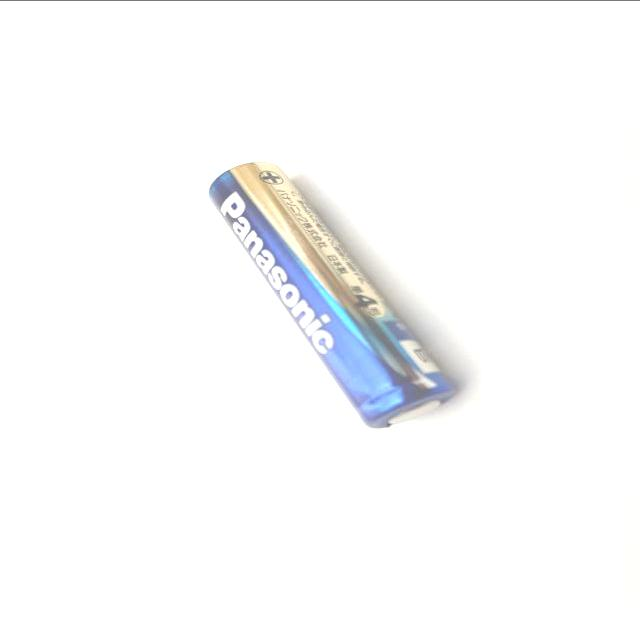AA: (205, 160, 460, 430)
